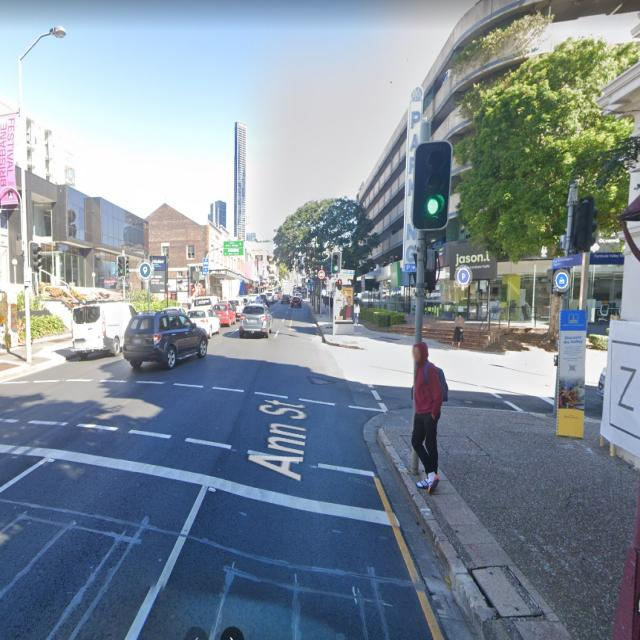light pole: (17, 24, 66, 362)
steel-pole: (411, 121, 431, 475), (552, 181, 579, 420), (17, 55, 34, 363), (332, 246, 336, 334), (120, 249, 126, 301)
streetlight: (19, 25, 67, 60)
traffic pole: (411, 121, 452, 476), (552, 183, 600, 419), (331, 246, 342, 336)
traffic-light: (412, 141, 453, 230), (569, 196, 599, 254), (413, 250, 441, 291), (28, 242, 42, 271), (117, 255, 129, 277), (331, 250, 341, 273), (336, 278, 343, 290)
